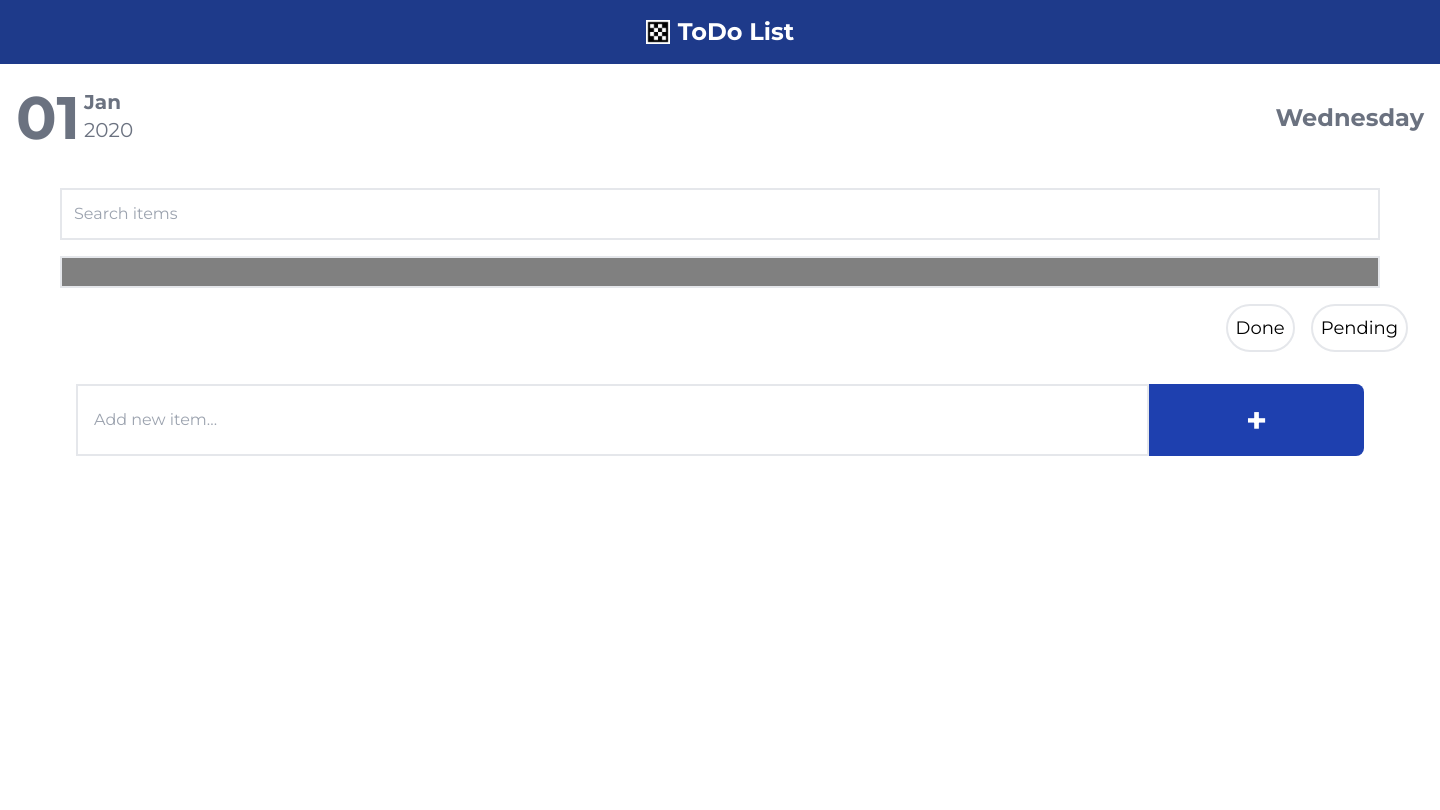
it: <TodoList /> › should render todo list experience
Expected: the text "2020" is shown, [84,116,133,144]
Expected: the text "Wednesday" is shown, [1276,102,1424,134]
Step 1. Type "Something" into the field named "add new todo" → coordinates (613, 420), box [76,384,1149,456]
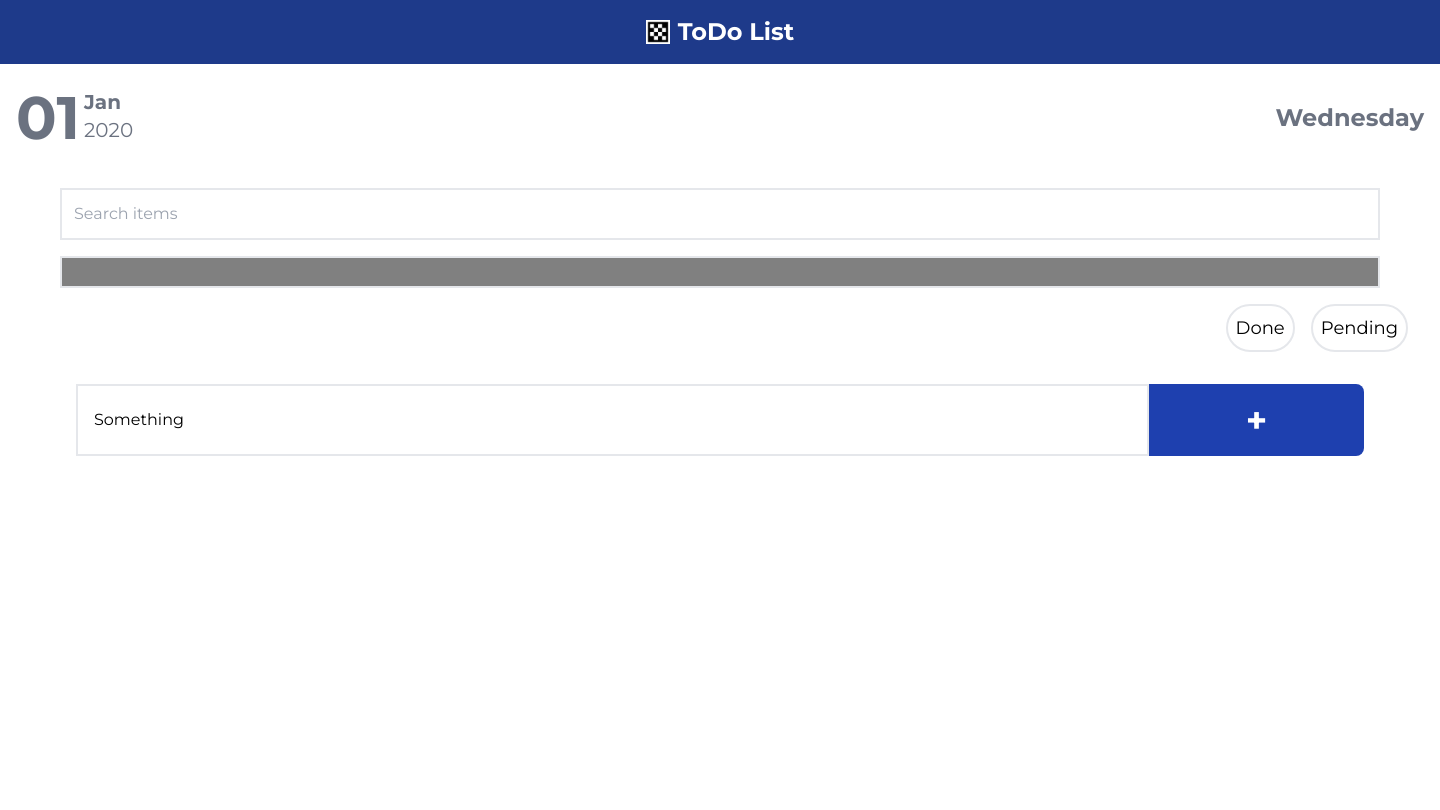
Step 2. Click the button named "submit todo" → coordinates (1257, 420), box [1149,384,1364,456]
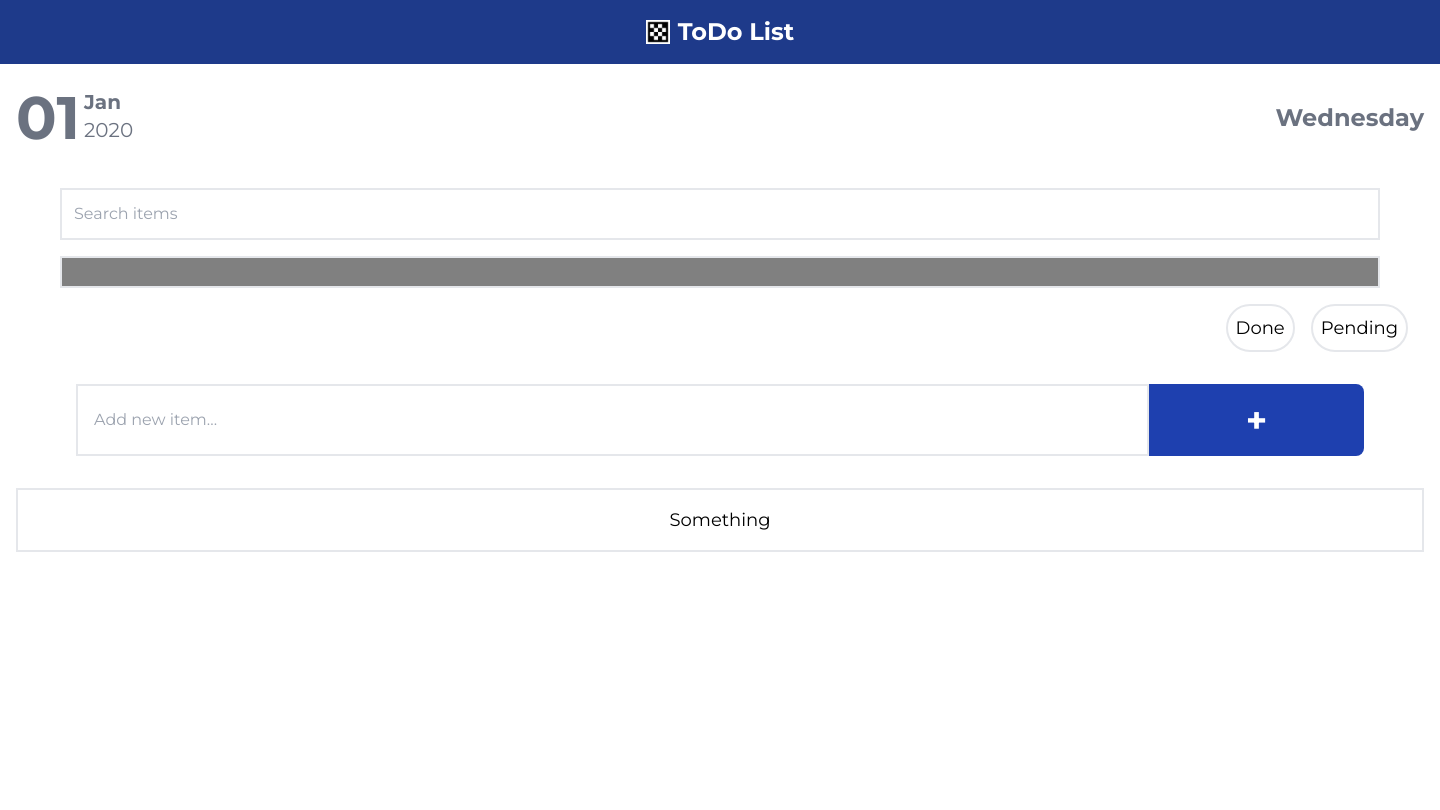
Result: the button "Something" is shown
Step 3. Click the button "Something" → coordinates (720, 520), box [135,490,1305,550]
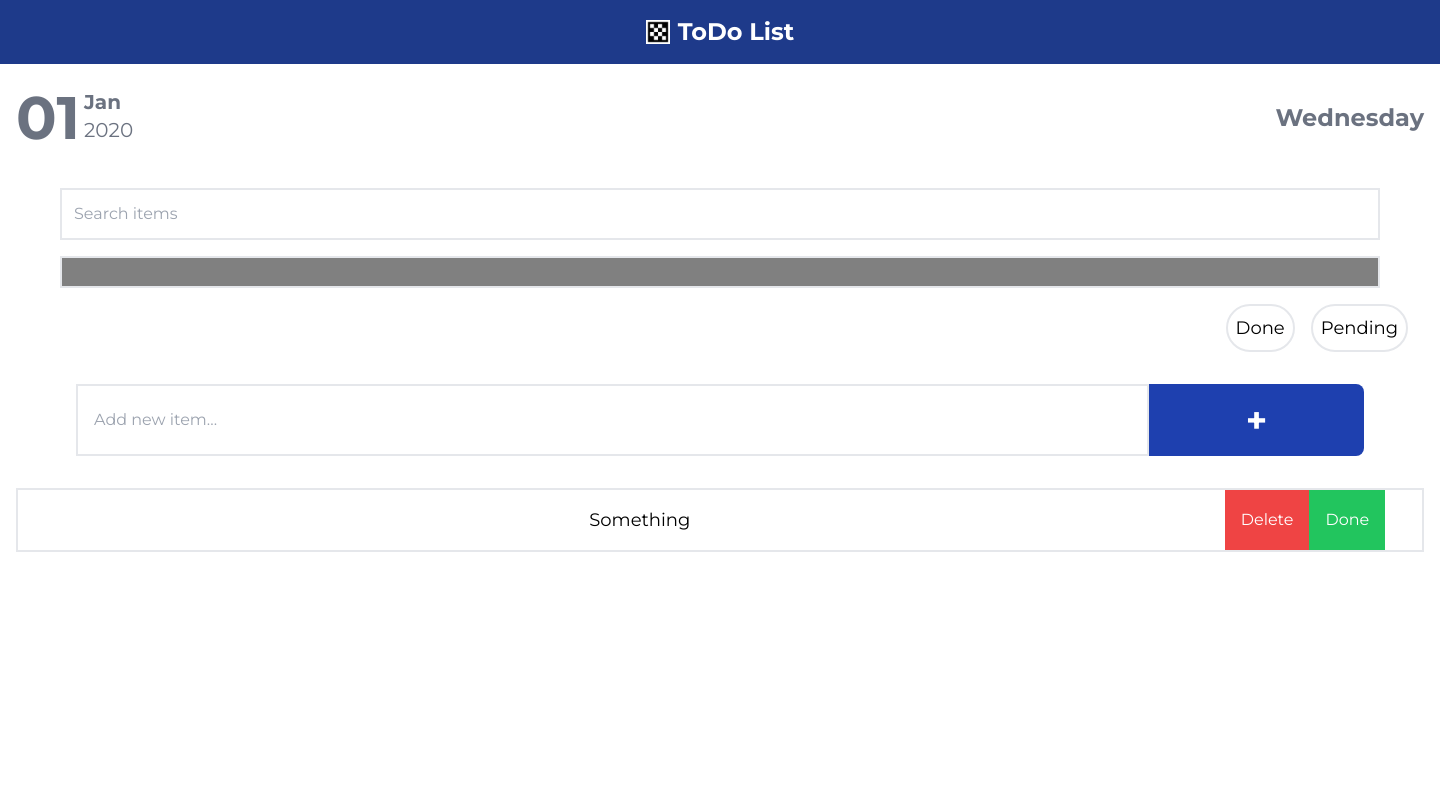
Result: the button with aria-label "delete something" is shown at [1225,490,1310,550]
Result: the button with aria-label "done something" is shown
Step 4. Click the button with aria-label "done something" → coordinates (1347, 520), box [1310,490,1385,550]
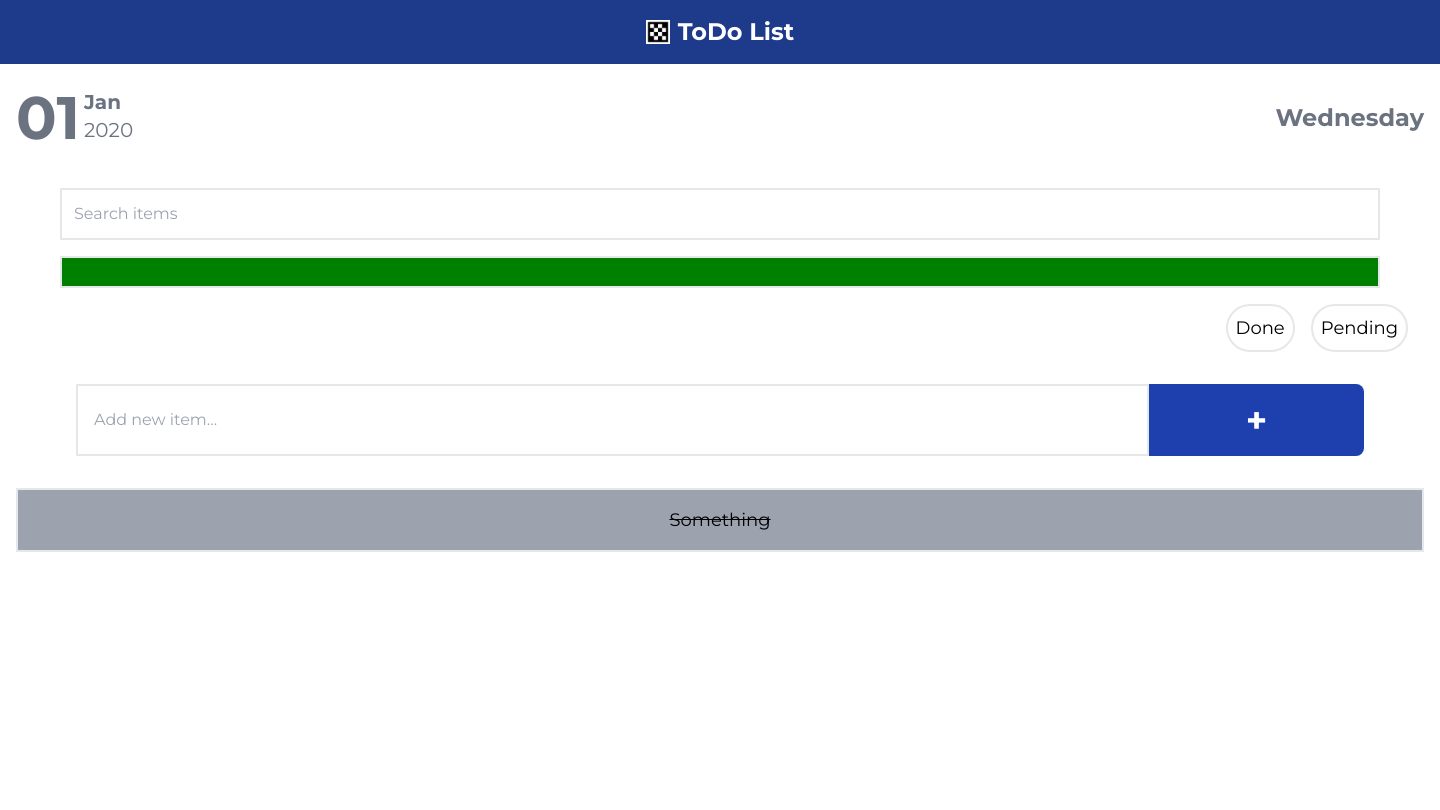
Result: the button "Something" is disabled at [135,490,1305,550]
